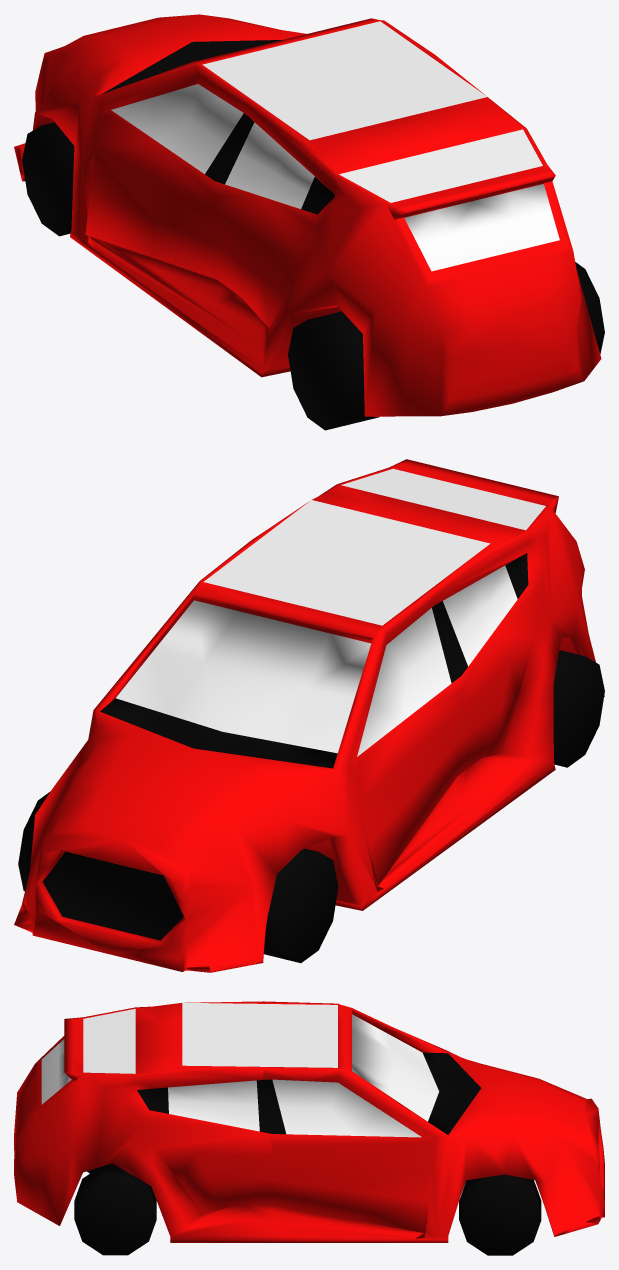
The model's file is beauty.fbx.
The picture shows the model from 3 angles, top to bottom: view 1: azimuth 30°, elevation 25°; view 2: azimuth 150°, elevation 25°; view 3: azimuth 270°, elevation 25°; orthographic projection. The views are drawn at different scales.
Parts seen in each view (by area): view 1: Cube, Cylinder.003, Cylinder.001, Cylinder.002; view 2: Cube, Cylinder.001, Cylinder.003, Cylinder; view 3: Cube, Cylinder.002, Cylinder.
Boxes of the visible parts, x1,y1,x2,y2 form: Cube: (14,14,601,416); Cylinder.003: (288,311,378,430); Cylinder.001: (22,122,74,236); Cylinder.002: (575,262,604,353); Cube: (14,459,604,972); Cylinder.001: (263,848,338,963); Cylinder.003: (553,650,604,767); Cylinder: (18,791,50,891); Cube: (14,1001,604,1242); Cylinder.002: (74,1165,156,1255); Cylinder: (459,1174,541,1255).
Size of the model in its own units: 951 by 751 by 2308.
